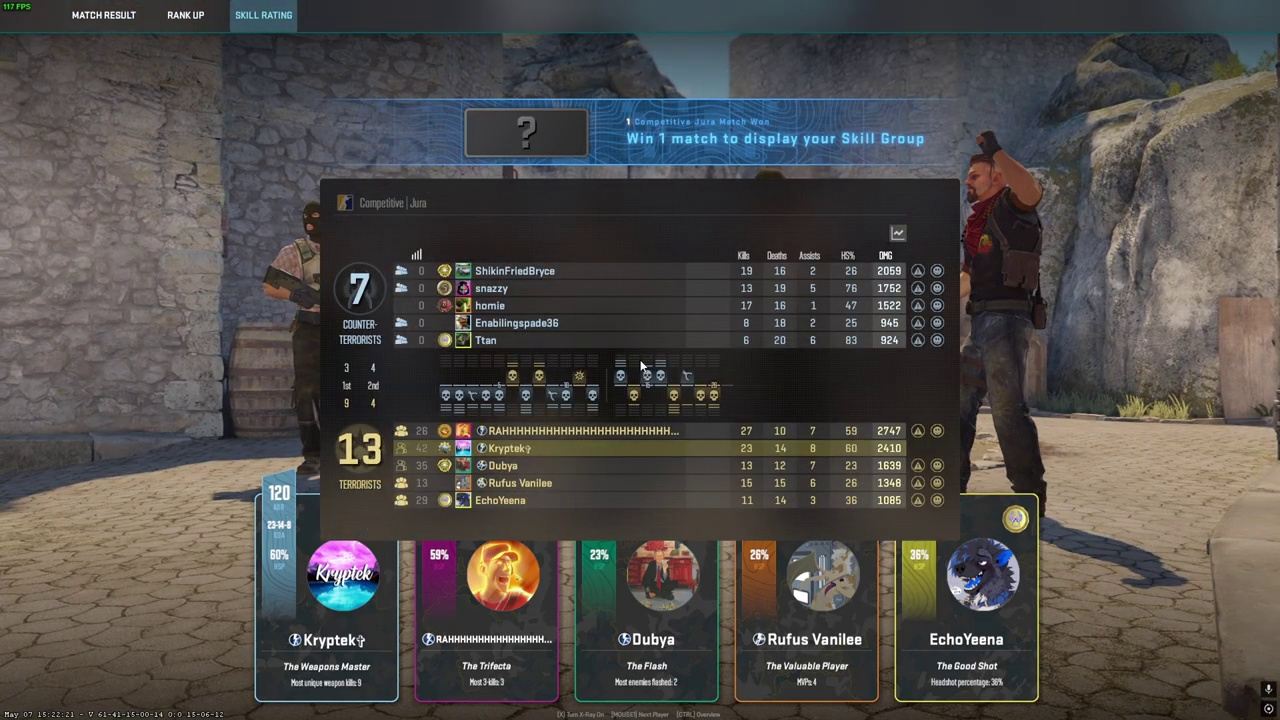Terrorist: (957, 157, 1050, 517), (273, 199, 322, 479)
